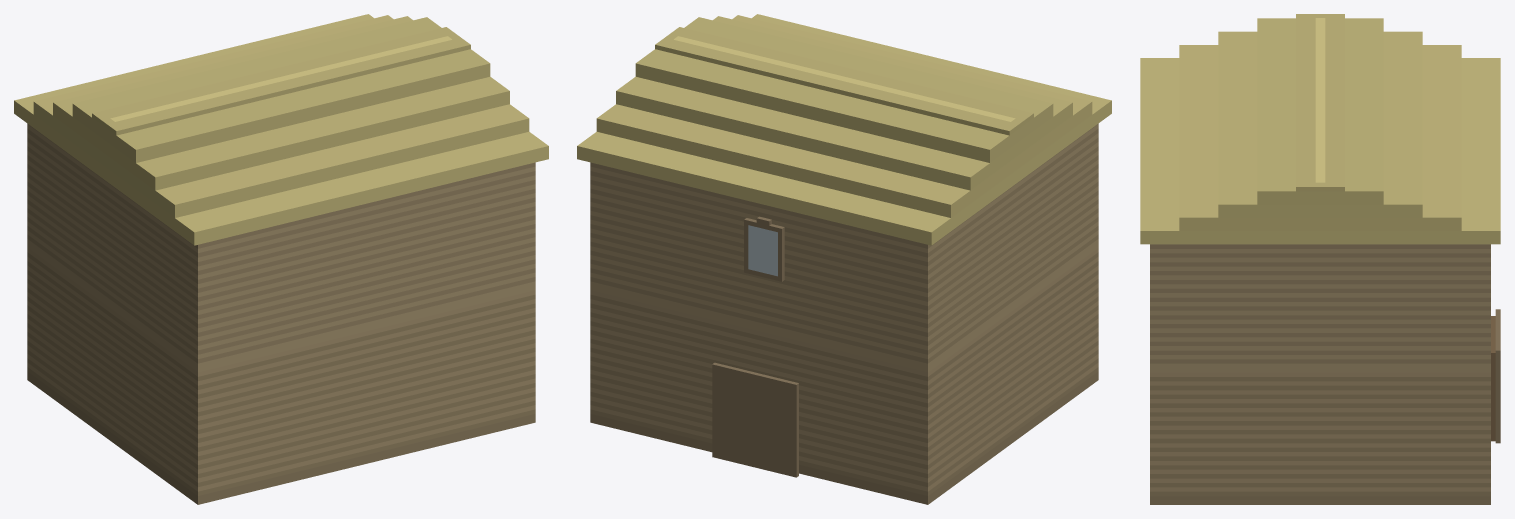
File: granero_01.glb
The picture shows the model from 3 angles, left to right: view 1: azimuth 30°, elevation 25°; view 2: azimuth 150°, elevation 25°; view 3: azimuth 270°, elevation 25°; orthographic projection.
Parts seen in each view (by area): view 1: granero_01; view 2: granero_01; view 3: granero_01.
Part boxes in pixels (x1=…): granero_01: x1=14, y1=14, x2=548, y2=504; granero_01: x1=577, y1=14, x2=1111, y2=504; granero_01: x1=1140, y1=14, x2=1500, y2=504.
Size of the model in its own units: 8.4 by 7.3 by 7.4.
